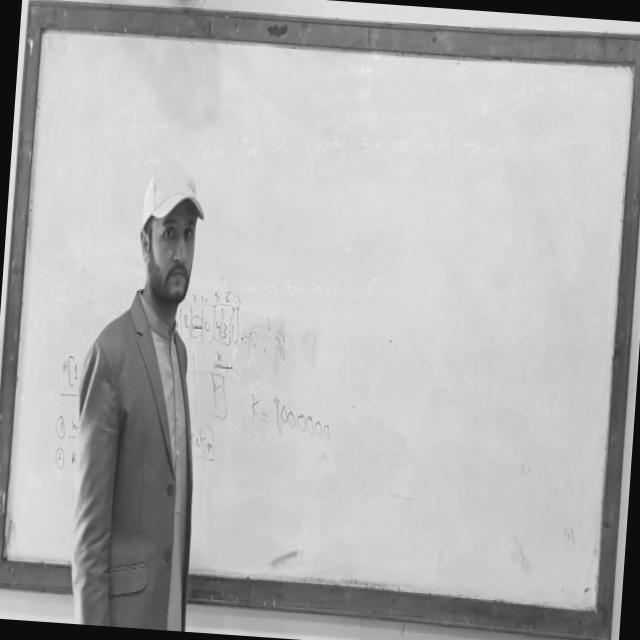Instructor: (66, 150, 226, 632)
White-board: (0, 17, 640, 625)
